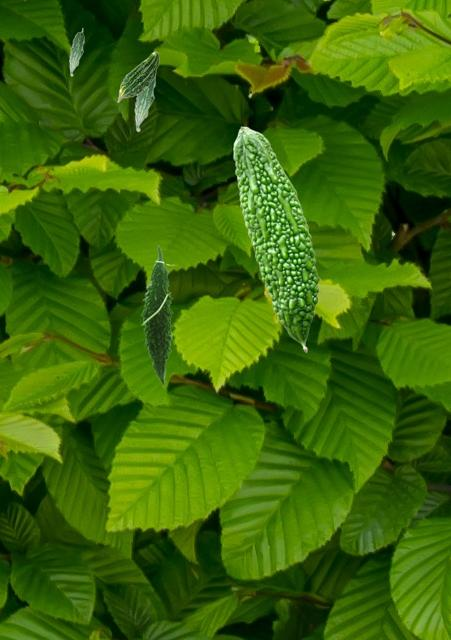ampalaya: (232, 126, 322, 353), (139, 244, 177, 386), (116, 51, 159, 102), (134, 77, 156, 132), (68, 27, 85, 76)
